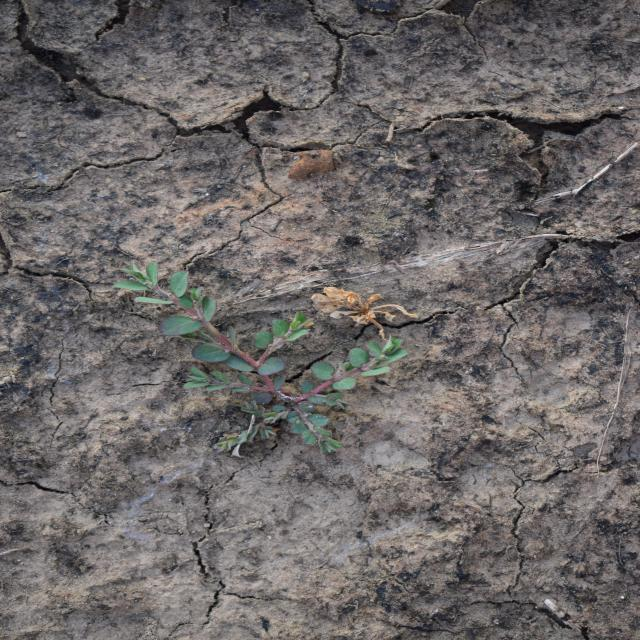SpottedSpurge: (110, 258, 411, 458)
